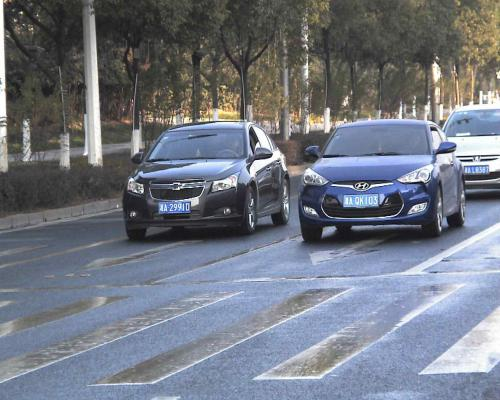Carplate: (340, 189, 382, 214), (156, 200, 193, 214)
